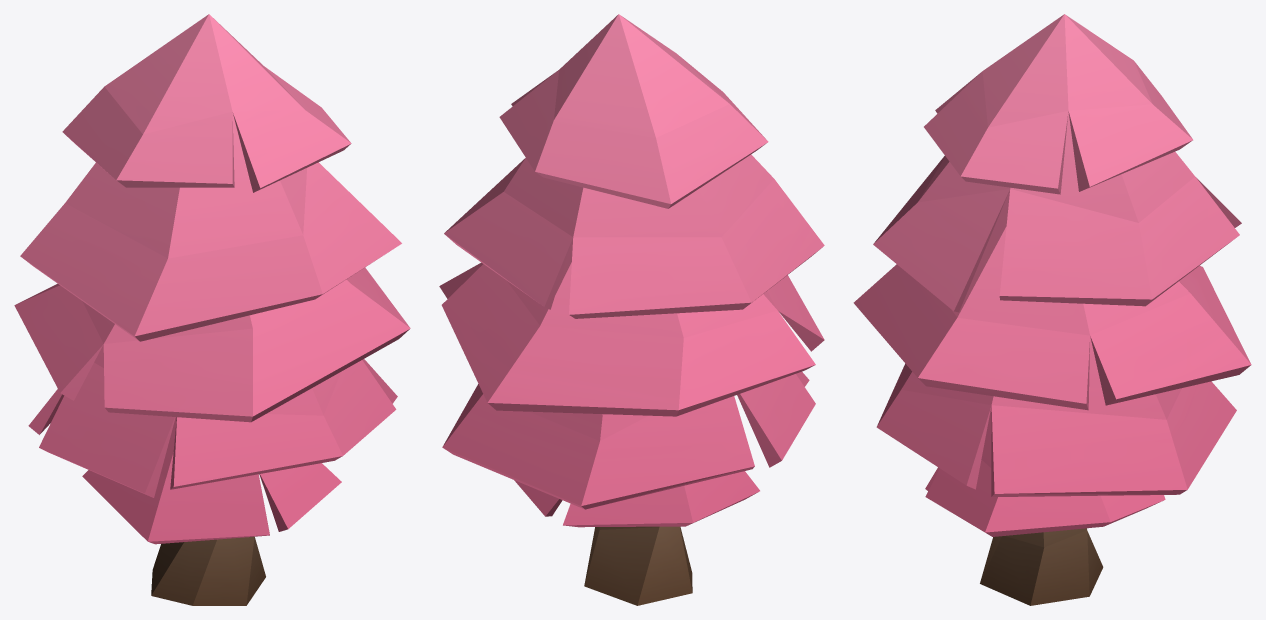
Rendered from tree_spruce_pink.fbx.
The picture shows the model from 3 angles, left to right: view 1: azimuth 30°, elevation 25°; view 2: azimuth 150°, elevation 25°; view 3: azimuth 270°, elevation 25°; orthographic projection. The views are drawn at different scales.
Visible parts, largest first — view 1: tree_spruce_pink; view 2: tree_spruce_pink; view 3: tree_spruce_pink.
Boxes of the visible parts, x1=… form: tree_spruce_pink: x1=14, y1=14, x2=410, y2=605; tree_spruce_pink: x1=439, y1=14, x2=824, y2=605; tree_spruce_pink: x1=853, y1=14, x2=1251, y2=605.
Bounding box in the file's own units: 5.3 × 8.4 × 5.3.
Materials: 1 (1 with a texture image).
